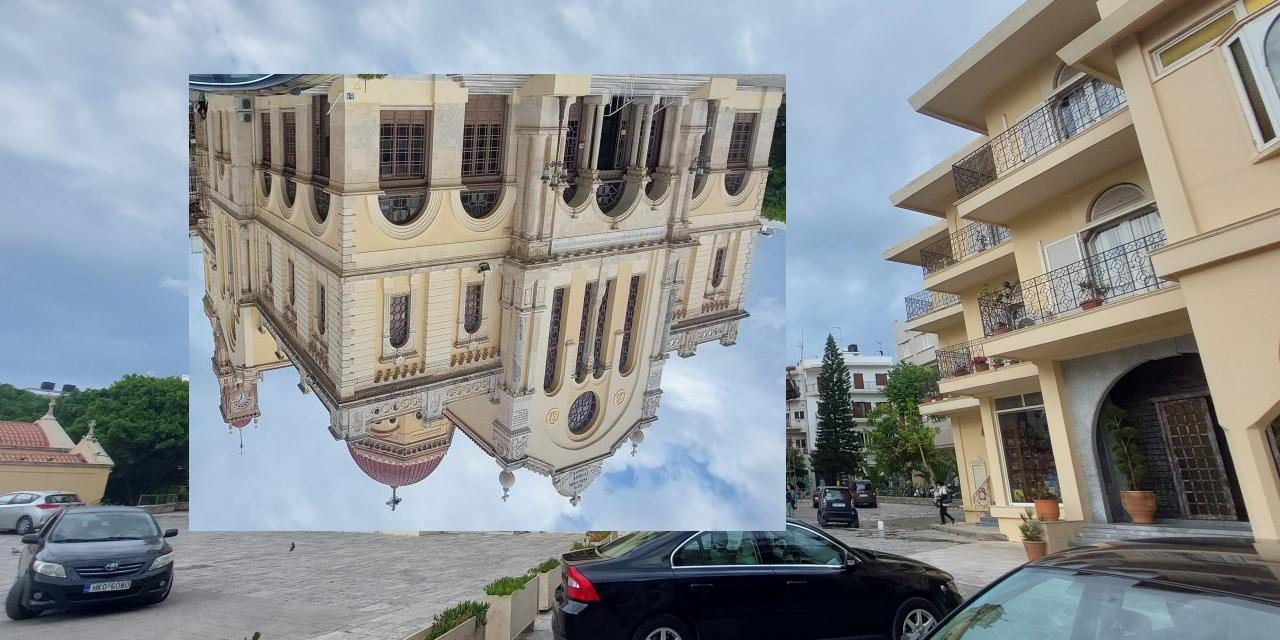Agios Minas: (190, 75, 787, 532)
